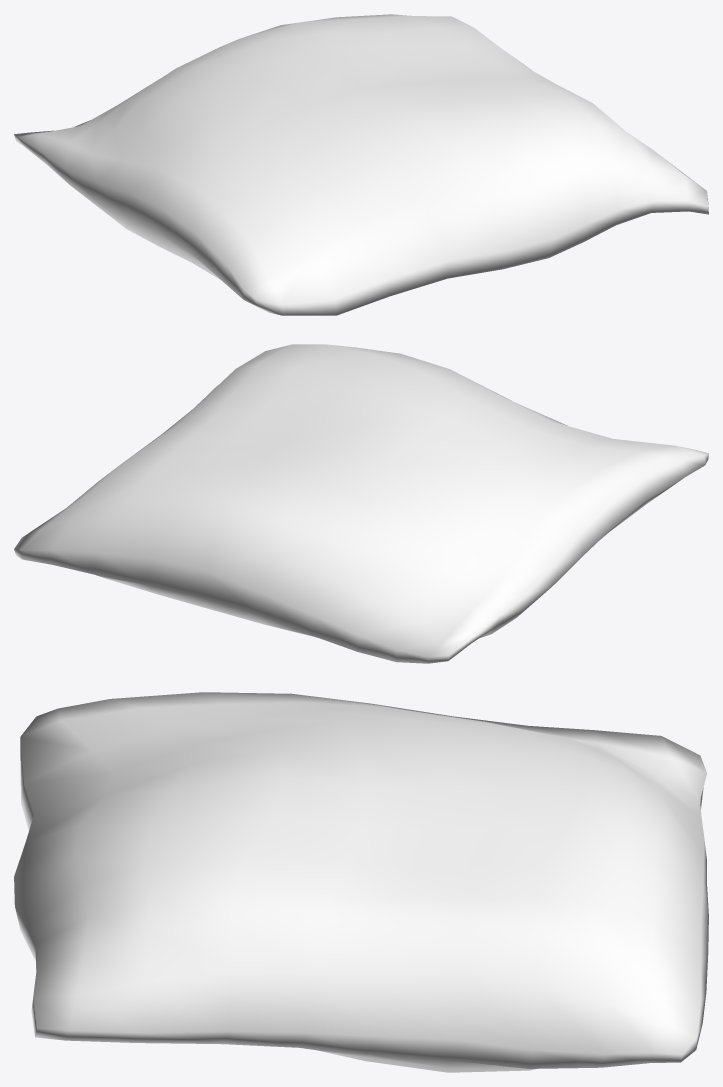
File: cuscino_bianco.fbx
3 renders of one model, top to bottom at view 1: azimuth 30°, elevation 25°; view 2: azimuth 150°, elevation 25°; view 3: azimuth 270°, elevation 25°, orthographic. The views are drawn at different scales.
Parts seen in each view (by area): view 1: Cube; view 2: Cube; view 3: Cube.
Boxes of the visible parts, x1,y1,x2,y2 form: Cube: [14, 14, 708, 315]; Cube: [14, 344, 708, 663]; Cube: [14, 692, 708, 1072].
Size of the model in its own units: 26.04 by 8.52 by 25.32.
